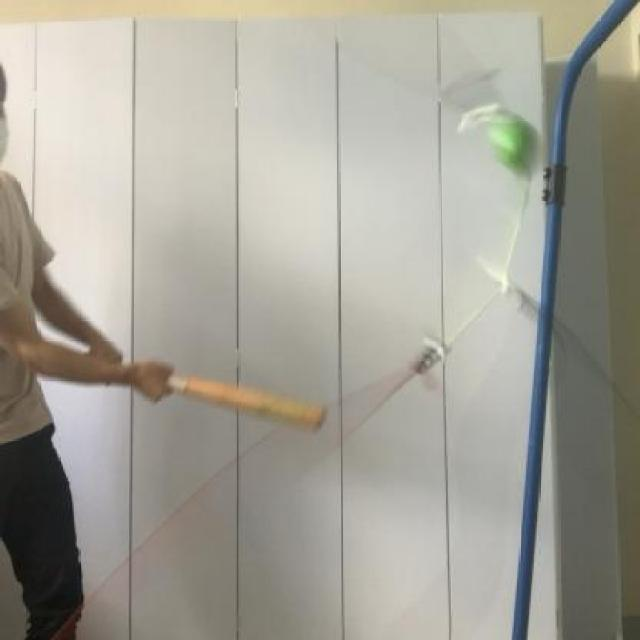baseball: (482, 106, 546, 192)
